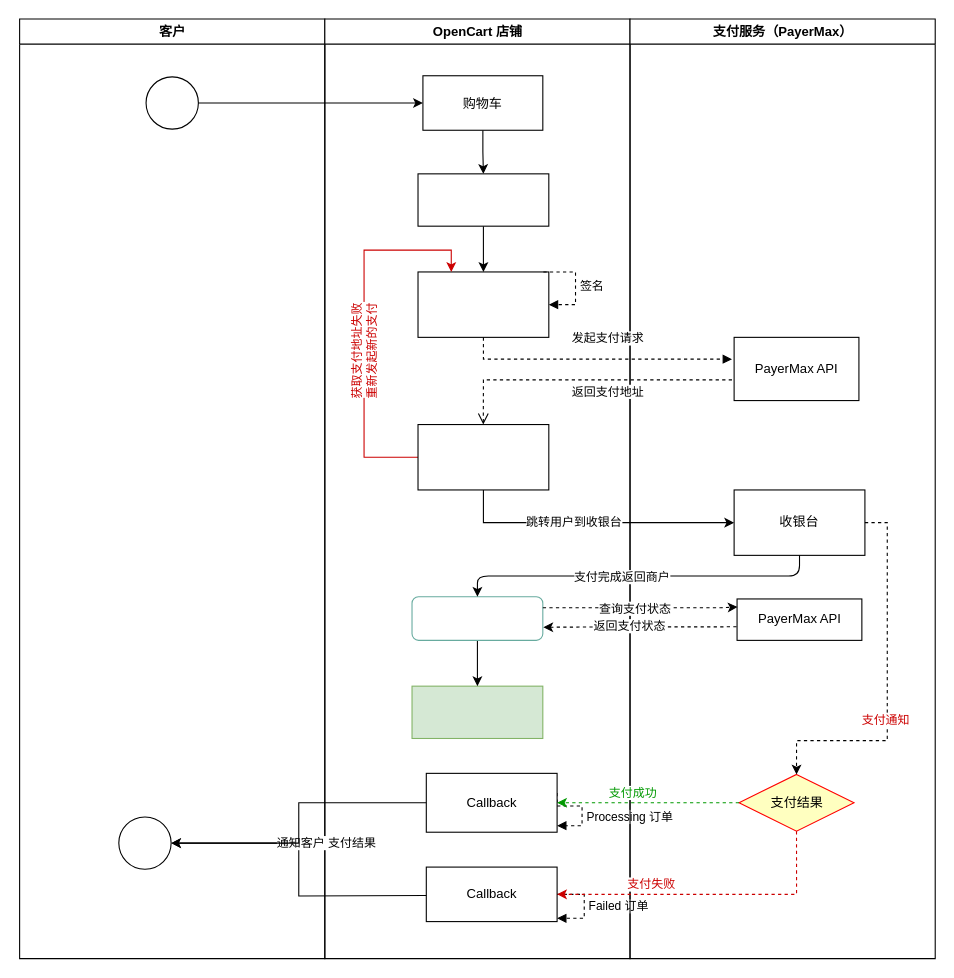
Some shapes in this 954 by 978 pixel diagram are drawn without their labels. The centre of each missing label's shape, as x and y in pixels:
"中转路由" goes at point (477, 618).
"处理订单" goes at point (483, 304).
"支付成功页面" goes at point (477, 711).
"结算" goes at point (483, 199).
"获取支付地址" goes at point (483, 456).
